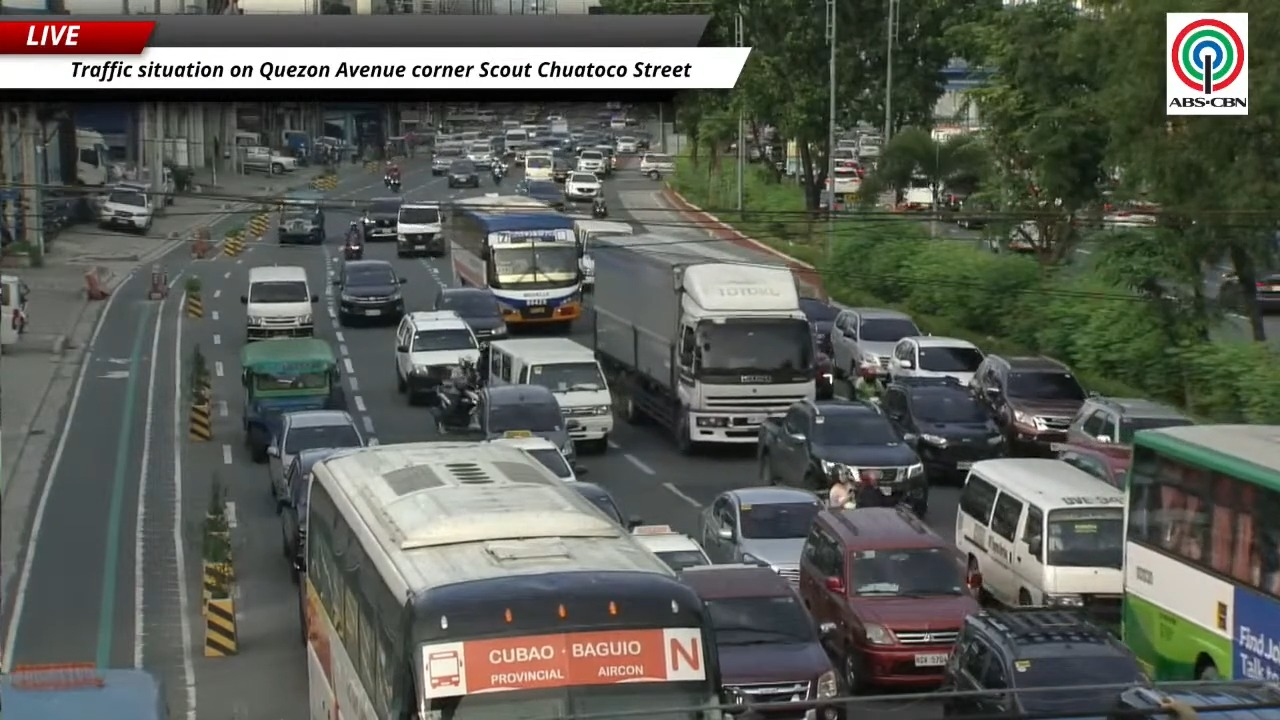bus: (301, 442, 719, 719), (1122, 424, 1279, 680), (447, 195, 581, 326)
car: (799, 507, 980, 693), (942, 607, 1147, 716), (680, 565, 840, 704), (758, 399, 928, 516), (881, 377, 1003, 481), (970, 354, 1087, 456), (697, 487, 821, 582), (267, 410, 365, 510), (280, 448, 348, 581), (1064, 396, 1194, 460), (474, 384, 575, 463), (395, 311, 479, 403), (831, 307, 924, 379), (333, 260, 405, 325), (888, 336, 984, 383), (490, 437, 586, 481), (433, 287, 507, 341), (632, 525, 710, 571), (568, 481, 642, 529), (1057, 443, 1130, 488), (396, 201, 447, 257), (99, 186, 153, 233), (800, 297, 839, 355), (362, 197, 402, 241), (516, 180, 564, 207), (564, 172, 601, 201), (815, 344, 834, 400), (1253, 272, 1279, 312), (447, 158, 479, 188), (639, 153, 674, 179), (576, 148, 606, 174), (431, 148, 458, 176), (595, 142, 617, 176), (466, 141, 492, 169), (552, 156, 573, 182), (615, 136, 639, 153), (635, 130, 651, 150)
motorcycle: (431, 362, 480, 434), (431, 381, 477, 434), (342, 222, 363, 260), (592, 197, 607, 218), (491, 164, 505, 184), (384, 175, 400, 192)
truck: (592, 234, 815, 453), (0, 663, 169, 719), (240, 146, 297, 175)
